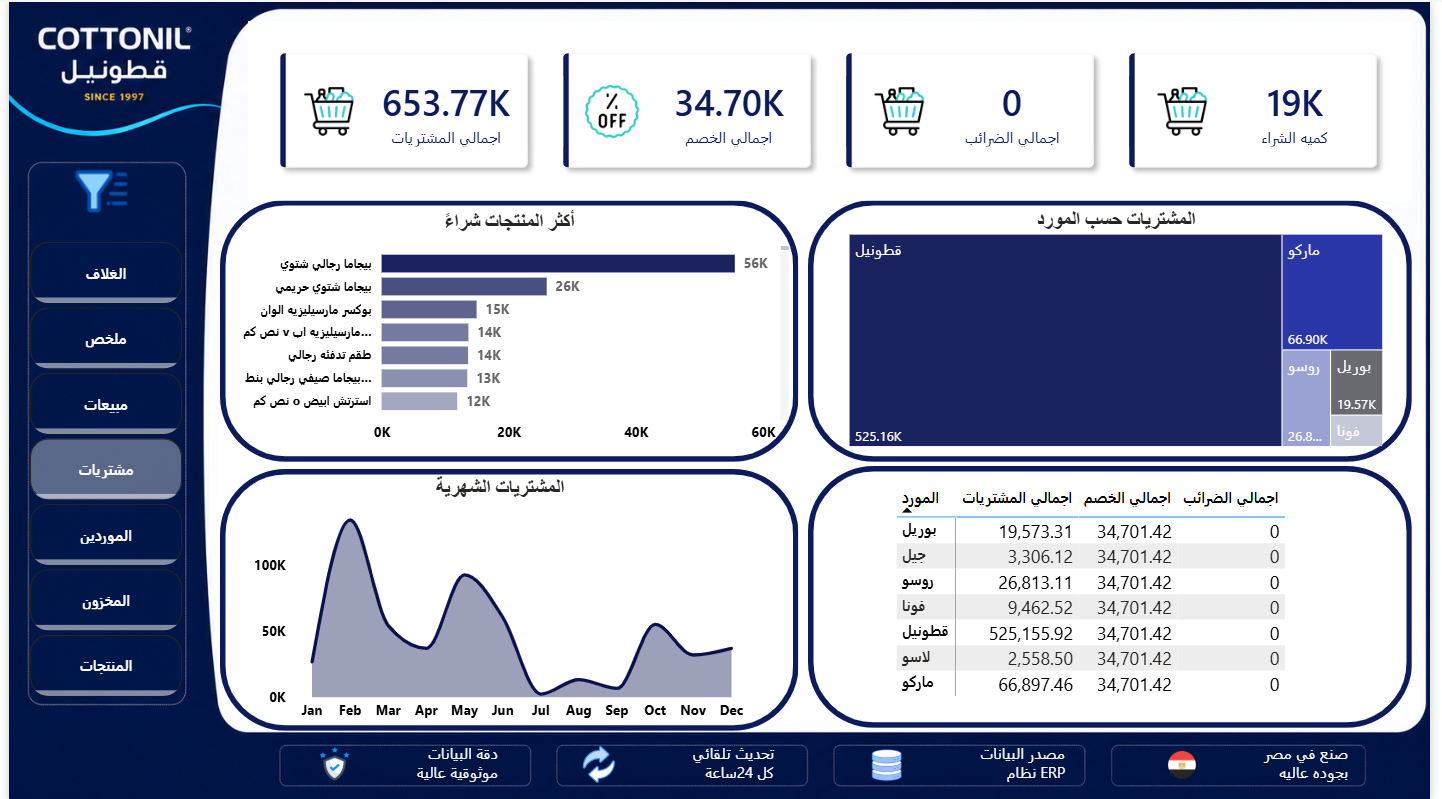

This screenshot's page, from the dashboard's own definition file:
{"tool":"powerbi","page":{"name":"مشتريات","canvas":[1280,720],"ordinal":3},"visuals":[{"type":"shape","box":[189.5,161.3,1086.5,486.8],"z":0},{"type":"shape","box":[190,178.5,521.4,235.9],"z":1000},{"type":"shape","box":[720.3,418.2,544.4,235.9],"z":2000},{"type":"shape","box":[720.3,178.5,544.4,235.9],"z":3000},{"type":"shape","box":[190,420.7,521.4,235.9],"z":4000},{"type":"cardVisual","fields":{"Data":["-measure.اجمالي المشتريات","-measure.اجمالي الخصم","-measure.صافي المشتريات","-measure.كميه الشراء"]},"box":[215.7,17,1049.2,161.8],"z":5000},{"type":"textbox","box":[358.6,663.2,90.8,46.4],"z":7000},{"type":"textbox","box":[603.6,663.2,90.8,46.4],"z":8000},{"type":"textbox","box":[865.6,663.2,90.8,46.4],"z":9000},{"type":"textbox","box":[1121.1,663.2,90.8,46.4],"z":10000},{"type":"image","box":[1043.5,674.5,27.4,24.6],"z":11000},{"type":"image","box":[274.4,671.7,38.8,30.3],"z":12000},{"type":"image","box":[509.9,669.8,43.5,35],"z":13000},{"type":"image","box":[752.1,673.6,76.6,29.3],"z":14000},{"type":"clusteredBarChart","title":"أكثر المنتجات شراءً","fields":{"Category":["fact -> المشتريات.الصنف"],"Y":["Sum(fact -> المشتريات.السعر)"]},"box":[193.3,187.1,514.3,218.1],"z":15000},{"type":"areaChart","title":"المشتريات الشهرية","fields":{"Category":["dim date.اسم الشهر"],"Y":["Sum(fact -> المشتريات.السعر)"]},"box":[215.2,427,454.3,229.4],"z":16000},{"type":"treemap","title":"المشتريات حسب المورد","fields":{"Group":["fact -> المشتريات.المورد"],"Values":["Sum(fact -> المشتريات.السعر)"]},"box":[752.5,185.7,490.4,219.5],"z":17000},{"type":"pivotTable","fields":{"Rows":["fact -> المشتريات.المورد"],"Values":["-measure.اجمالي المشتريات","-measure.اجمالي الخصم","-measure.صافي المشتريات"]},"box":[795.1,431.4,381.2,209.7],"z":18000},{"type":"pageNavigator","box":[19,216.5,137.7,409],"z":19000},{"type":"actionButton","box":[53.2,140.3,70.2,60],"z":20000}]}

Visuals, with their boxes on the page's 1280x720 design canvas (x1, y1, x2, y2). These are canvas units, not pixel positions in the 1442x799 screenshot, which may show the page scaled, cropped or inside an application window:
shape: select_region(190, 161, 1276, 648)
shape: select_region(190, 178, 711, 414)
shape: select_region(720, 418, 1265, 654)
shape: select_region(720, 178, 1265, 414)
shape: select_region(190, 421, 711, 657)
cardVisual - -measure.اجمالي المشتريات x -measure.اجمالي الخصم: select_region(216, 17, 1265, 179)
textbox: select_region(359, 663, 449, 710)
textbox: select_region(604, 663, 694, 710)
textbox: select_region(866, 663, 956, 710)
textbox: select_region(1121, 663, 1212, 710)
image: select_region(1044, 674, 1071, 699)
image: select_region(274, 672, 313, 702)
image: select_region(510, 670, 553, 705)
image: select_region(752, 674, 829, 703)
"أكثر المنتجات شراءً" clusteredBarChart: select_region(193, 187, 708, 405)
"المشتريات الشهرية" areaChart: select_region(215, 427, 670, 656)
"المشتريات حسب المورد" treemap: select_region(752, 186, 1243, 405)
pivotTable - fact -> المشتريات.المورد x -measure.اجمالي المشتريات: select_region(795, 431, 1176, 641)
pageNavigator: select_region(19, 216, 157, 626)
actionButton: select_region(53, 140, 123, 200)
